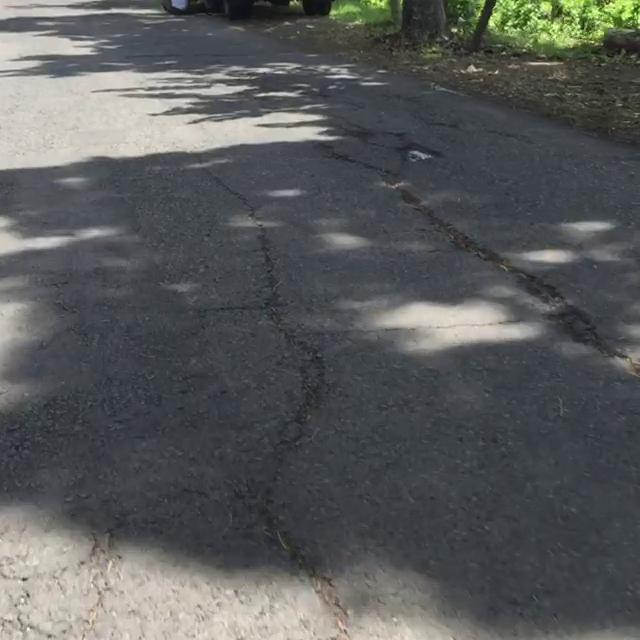retak_kulit_buaya: (0, 498, 119, 640)
retak_memanjang: (165, 142, 390, 640), (326, 113, 627, 374)
